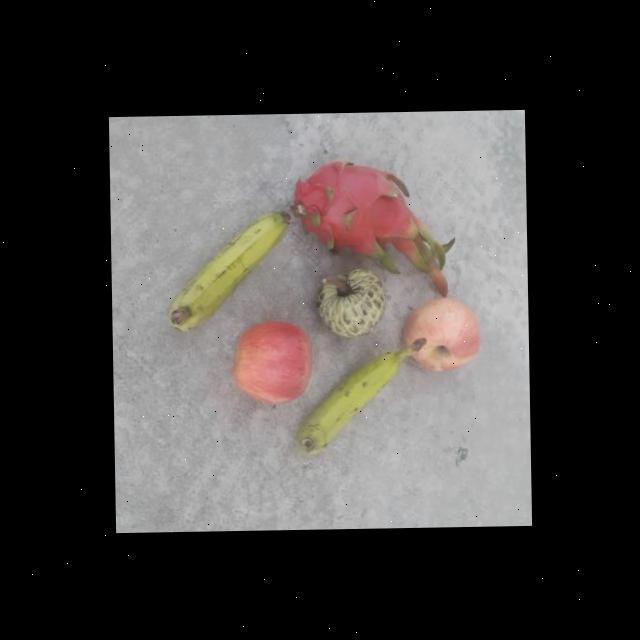Sakya fruit: (313, 265, 388, 339)
apple: (228, 316, 316, 406), (399, 293, 483, 370)
banana: (293, 332, 427, 456), (168, 207, 293, 331)
pitaya: (288, 154, 422, 262)
